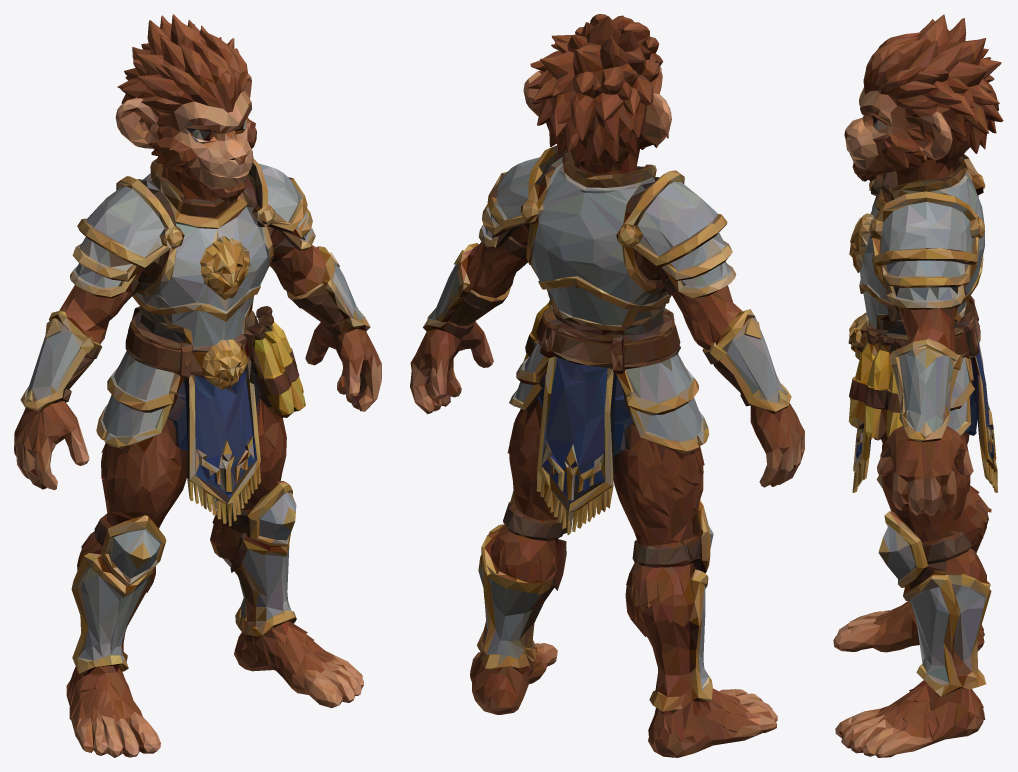
The model's file is fabri.glb.
The picture shows the model from 3 angles, left to right: view 1: azimuth 30°, elevation 25°; view 2: azimuth 150°, elevation 25°; view 3: azimuth 270°, elevation 25°; orthographic projection. The views are drawn at different scales.
Visible parts, largest first — view 1: tripo_node_4f5e3b04; view 2: tripo_node_4f5e3b04; view 3: tripo_node_4f5e3b04.
Part boxes in pixels (bbox=[...]): tripo_node_4f5e3b04: bbox=[14, 14, 381, 757]; tripo_node_4f5e3b04: bbox=[410, 14, 804, 757]; tripo_node_4f5e3b04: bbox=[833, 14, 1003, 757].
Size of the model in its own units: 1.07 by 1.95 by 0.4469.
